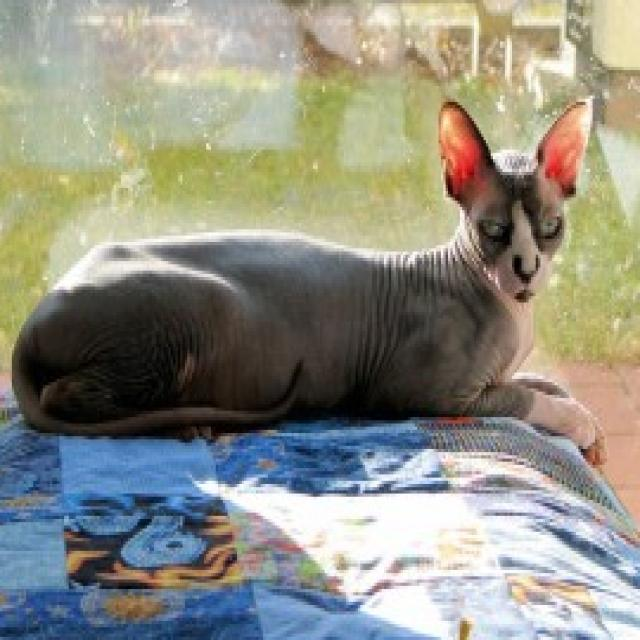Sphynx: (7, 94, 612, 472)
